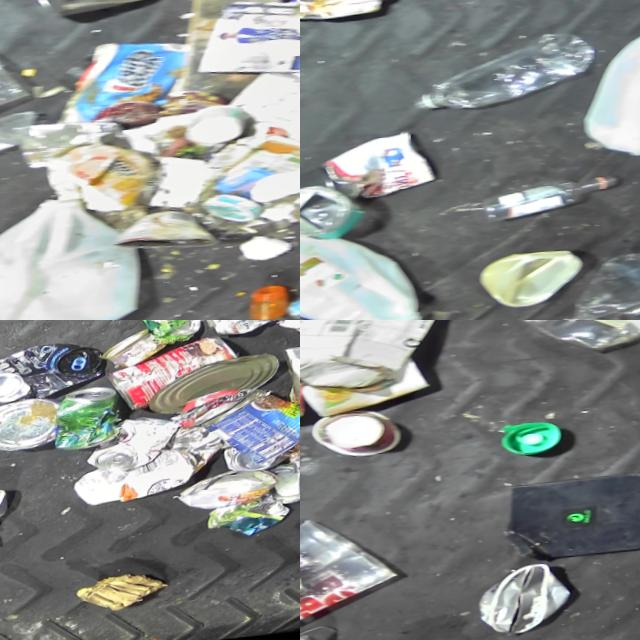can: (111, 341, 249, 420), (322, 133, 450, 208), (479, 559, 592, 640), (203, 388, 300, 476), (155, 362, 289, 423), (0, 343, 111, 412), (488, 180, 629, 229), (92, 419, 191, 479), (121, 210, 234, 260), (300, 183, 378, 250), (59, 389, 133, 455), (185, 473, 291, 519), (0, 401, 67, 461), (15, 0, 177, 23), (107, 333, 175, 377), (202, 320, 300, 347), (132, 320, 211, 353), (300, 0, 389, 28), (229, 451, 298, 482), (275, 468, 300, 514), (284, 350, 300, 416), (0, 490, 18, 547), (300, 377, 319, 431)
milk_jug: (0, 192, 160, 320), (300, 225, 440, 320), (581, 14, 640, 172)
plastic_bottle: (413, 38, 603, 119)
